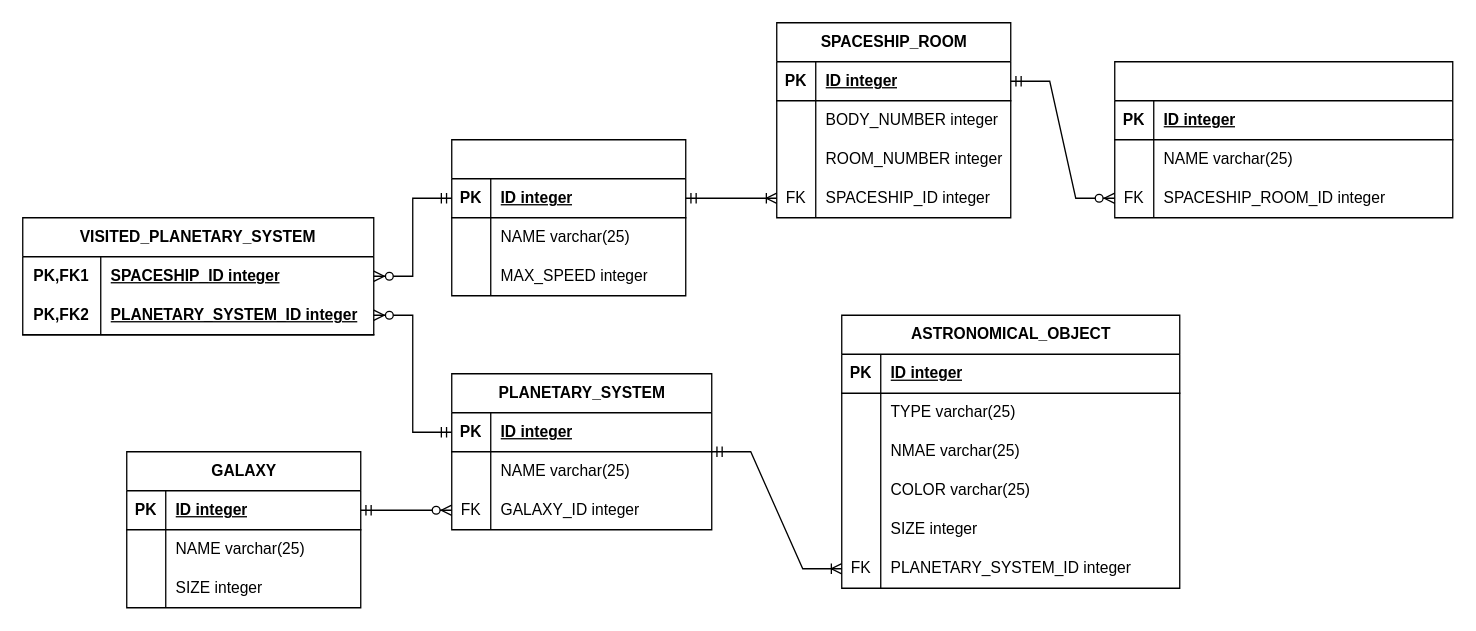
This 1476x631 diagram has some shape labels left out. The shapes that lost their labels are listed below. From the top down, each one's box as (x1, y1, x2, y2) in pixels, then its label:
(1113, 60, 1453, 218): HUMAN
(450, 138, 686, 296): SPACESHIP
